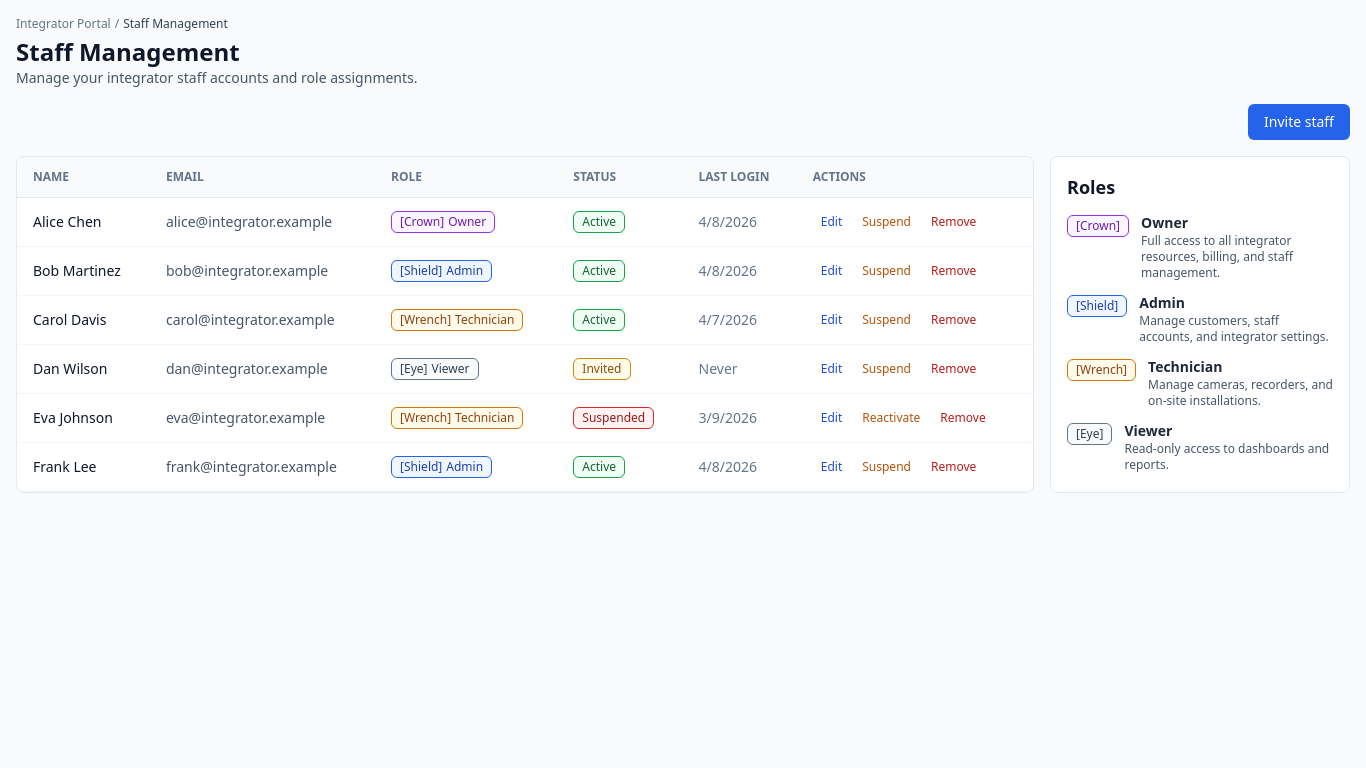
Scenario: StaffPage › invite flow: opens dialog, validates email, submits successfully
Check: the table with test id "staff-table" is shown, box [17,157,1033,492]
# Open invite dialog
Click the button with test id "invite-open": [1299, 122] box [1248,104,1350,140]
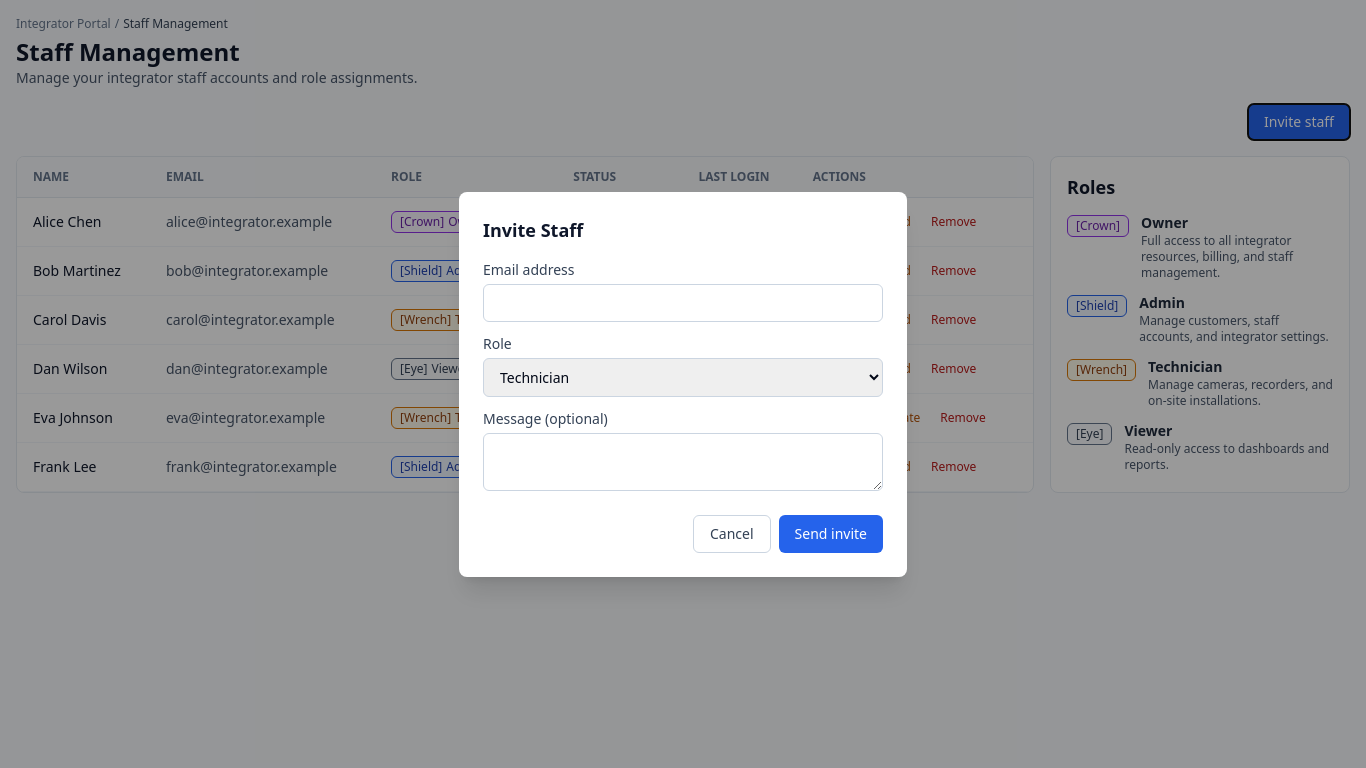
Check: the dialog with test id "invite-dialog" is shown
# Submit without email shows error
Click the button with test id "invite-submit": [831, 534] box [779,514,883,552]
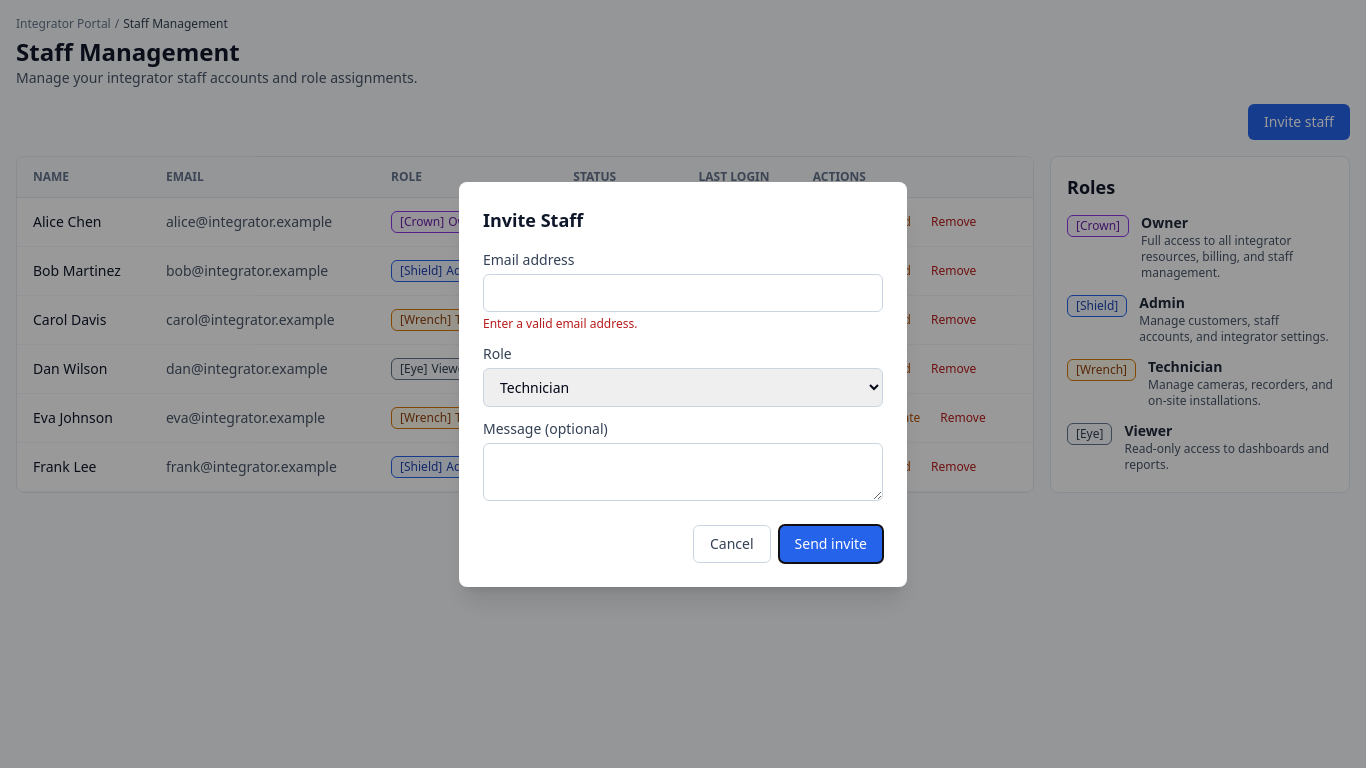
Check: the message "Enter a valid email address." is shown, box [483,314,637,332]
# Fill valid email and submit
In the field with test id "invite-email": [683, 292] box [483,274,883,312], type "newstaff@example.com"
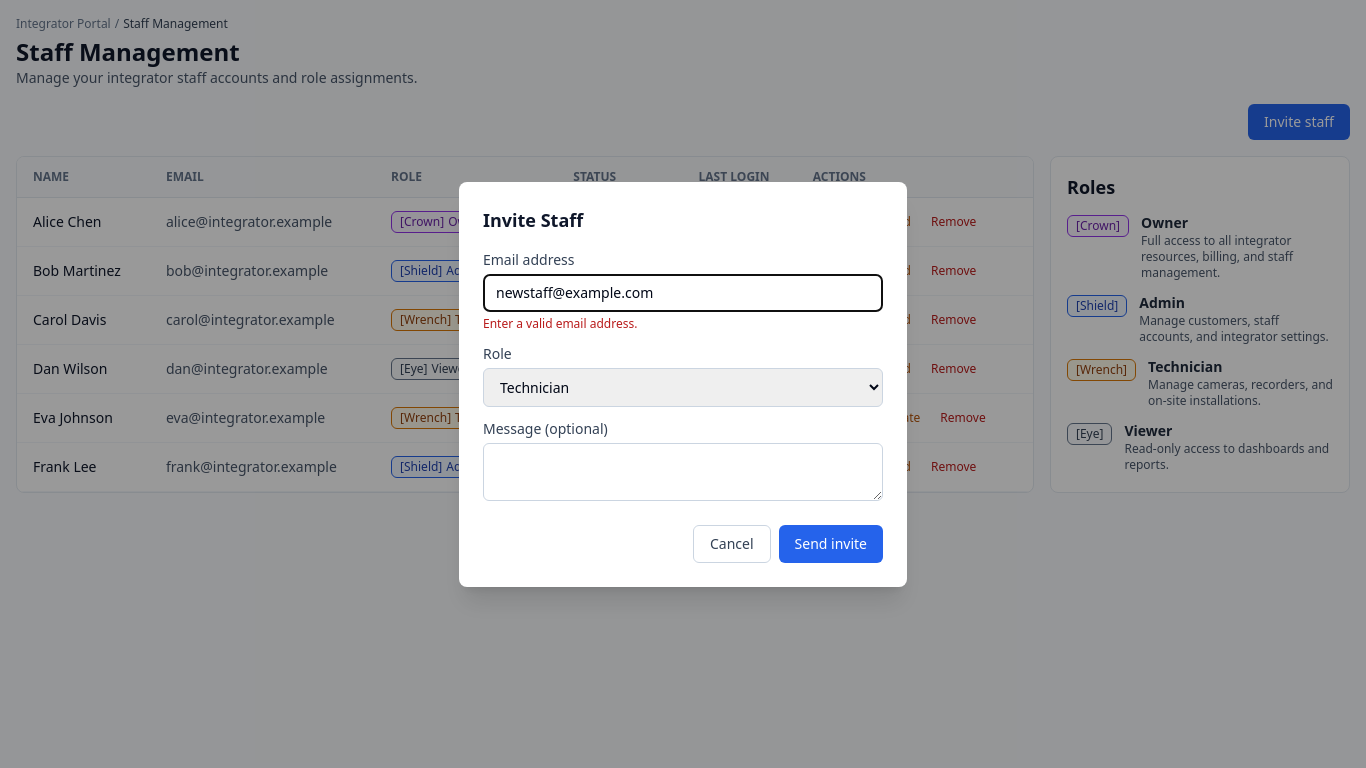
Click the button with test id "invite-submit": [831, 544] box [779,524,883,562]
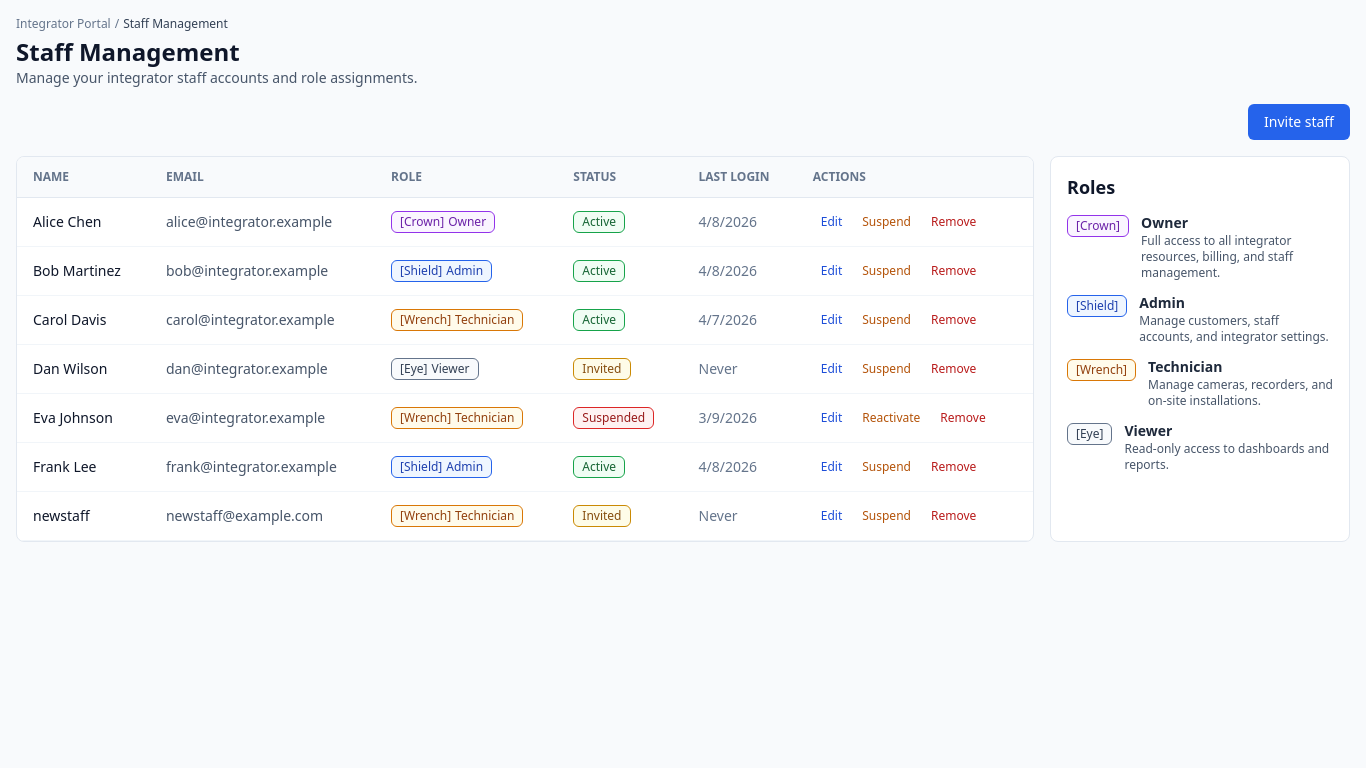
Check: the dialog with test id "invite-dialog" is gone
